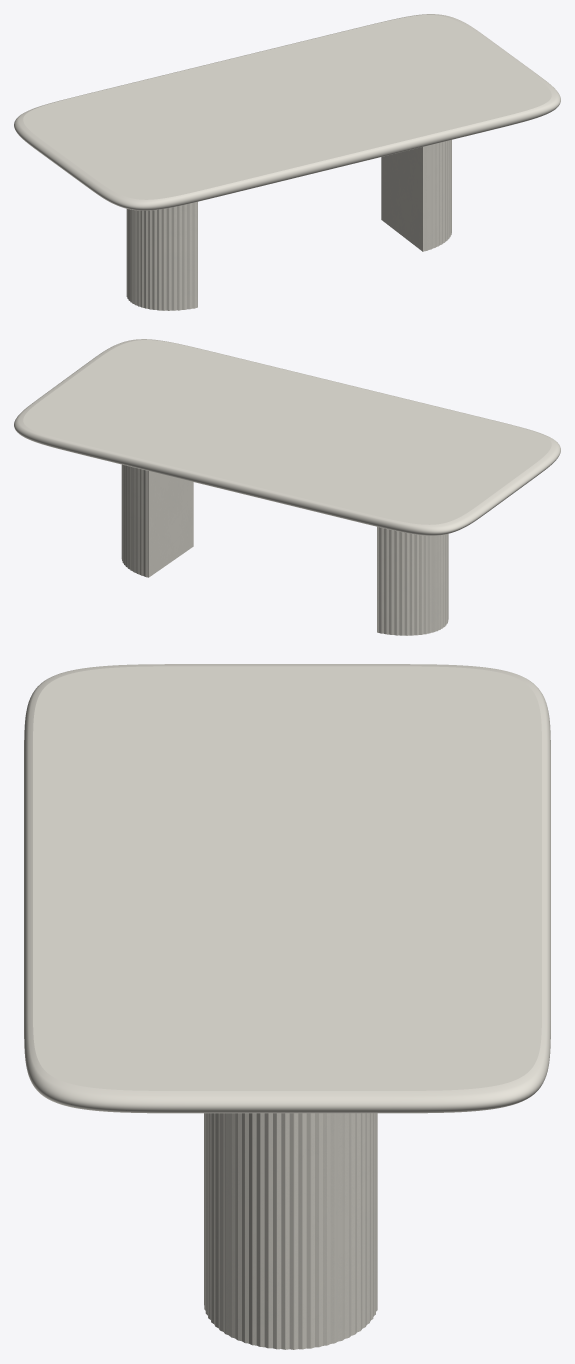
Rendered from pale_softrecta_round_flute.glb.
The picture shows the model from 3 angles, top to bottom: view 1: azimuth 30°, elevation 25°; view 2: azimuth 150°, elevation 25°; view 3: azimuth 270°, elevation 25°; orthographic projection. The views are drawn at different scales.
Visible parts, largest first — view 1: round_softrecta, flute; view 2: round_softrecta, flute; view 3: round_softrecta, flute.
Part boxes in pixels (bbox=[...]): round_softrecta: bbox=[14, 14, 560, 210]; flute: bbox=[126, 140, 451, 310]; round_softrecta: bbox=[14, 339, 560, 535]; flute: bbox=[121, 464, 448, 635]; round_softrecta: bbox=[24, 664, 550, 1113]; flute: bbox=[204, 1113, 377, 1349].
Size of the model in its own units: 7.5 by 2.5 by 3.8.
Materials: 1 (1 with a texture image).
